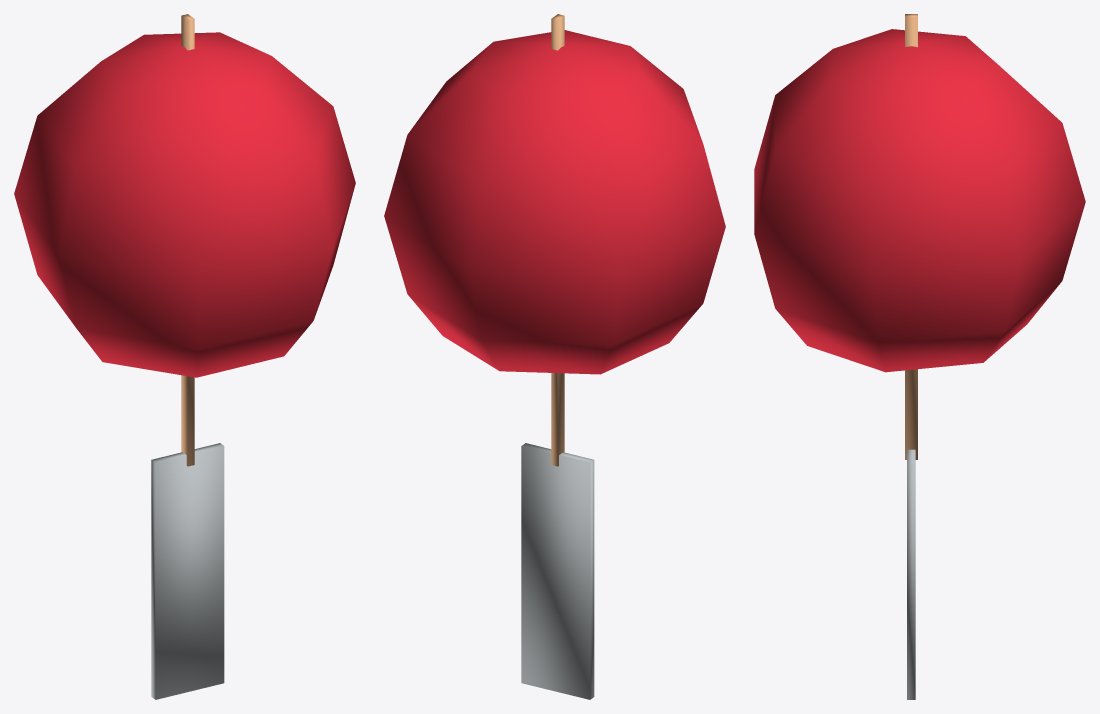
The model's file is Furin_1.fbx.
The picture shows the model from 3 angles, left to right: view 1: azimuth 30°, elevation 25°; view 2: azimuth 150°, elevation 25°; view 3: azimuth 270°, elevation 25°; orthographic projection.
Parts seen in each view (by area): view 1: Furin_1; view 2: Furin_1; view 3: Furin_1.
Boxes of the visible parts, bbox=[...] form: Furin_1: bbox=[14, 14, 355, 699]; Furin_1: bbox=[384, 14, 725, 699]; Furin_1: bbox=[754, 14, 1085, 699].
Size of the model in its own units: 0.2448 by 0.2511 by 0.5438.
